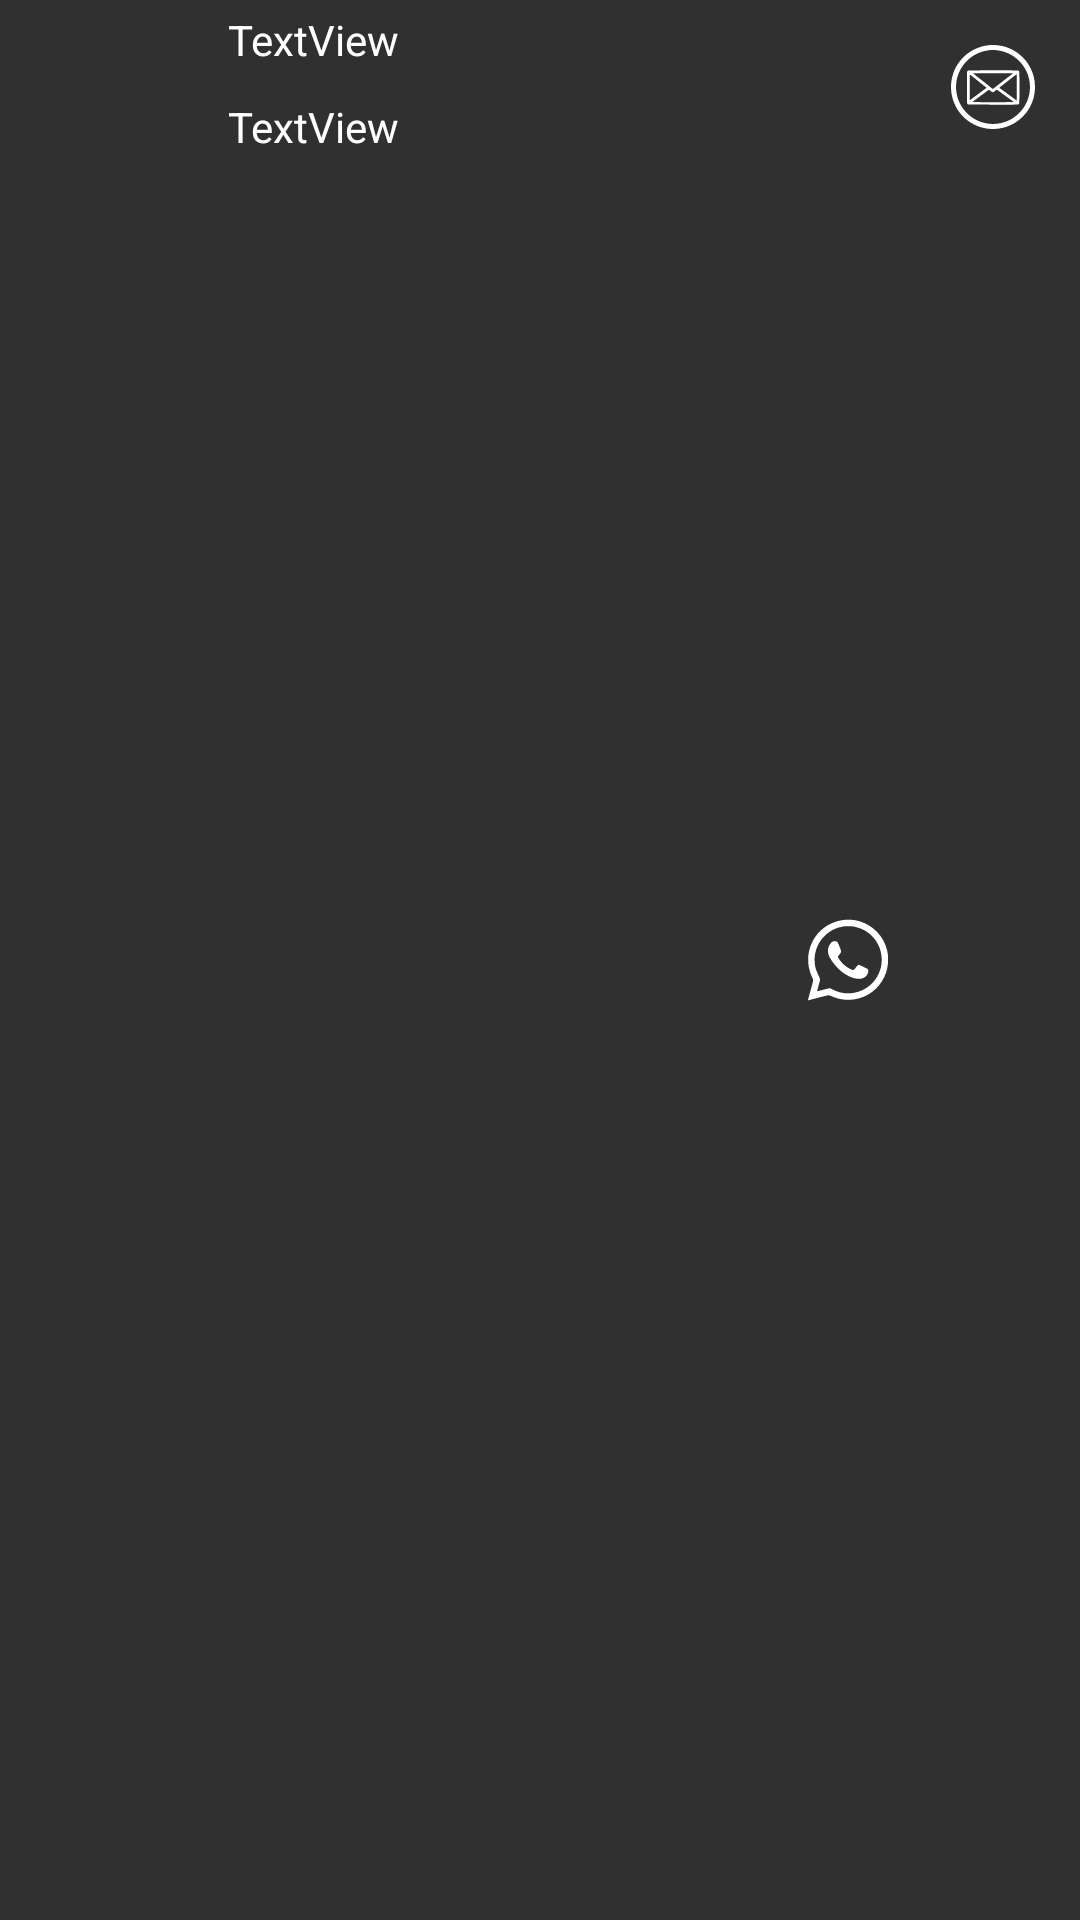

Point at icon controls on the screen. Image size 1080*1920, points as (x,y).
emailicon: (993,87)
